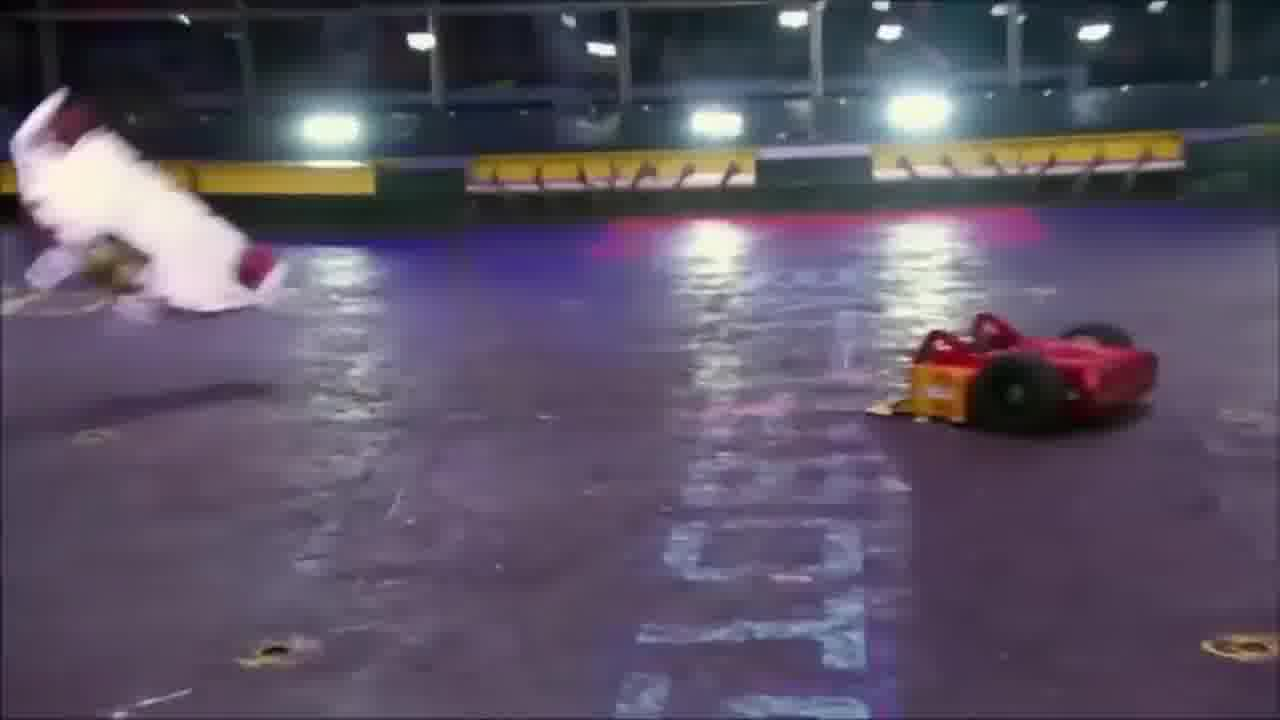combatbot: (3, 86, 286, 318), (868, 309, 1162, 438)
